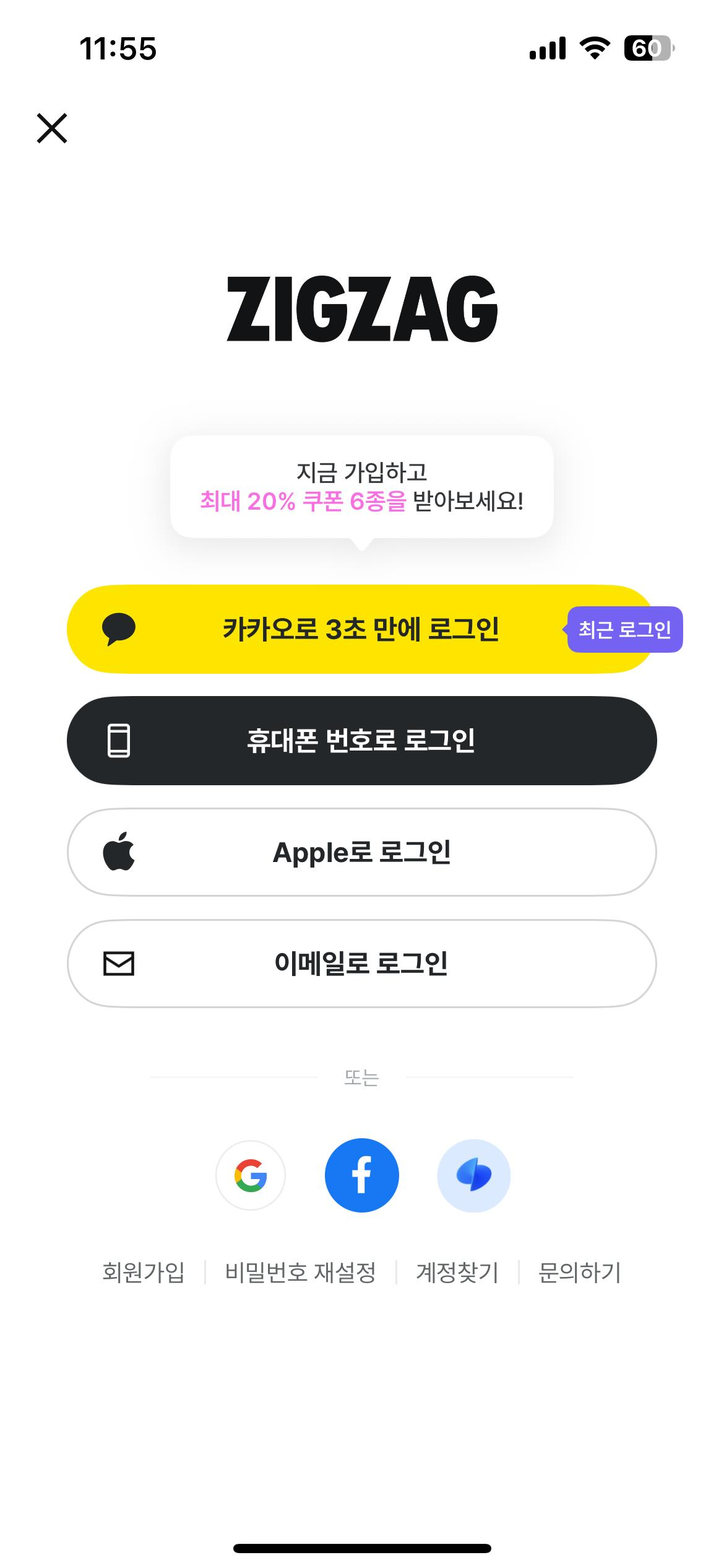button: (57, 578, 695, 685), (63, 911, 661, 1016), (61, 690, 660, 792), (63, 805, 669, 897), (217, 1246, 382, 1294), (319, 1132, 406, 1216), (433, 1132, 517, 1219), (212, 1133, 292, 1215), (95, 1246, 187, 1293), (408, 1250, 504, 1293), (28, 96, 88, 164), (534, 1252, 625, 1296)
popup: (160, 427, 564, 565)
